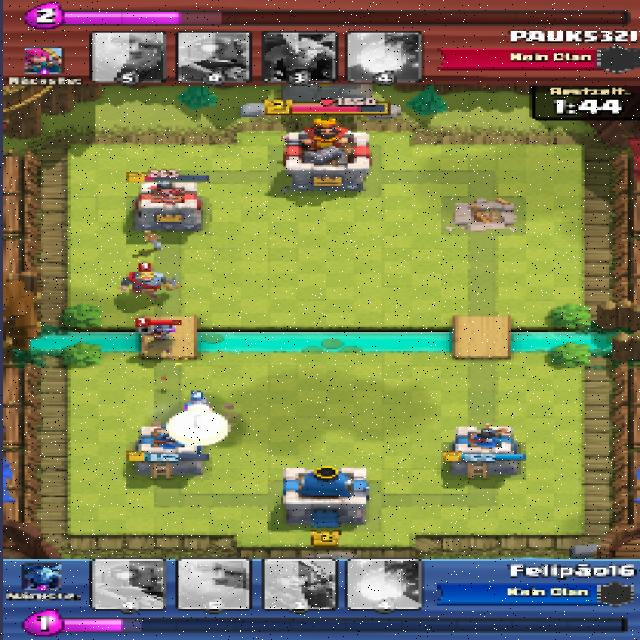Enemy-Knight: (114, 271, 177, 299)
Enemy-Musketeer: (133, 323, 175, 345)
